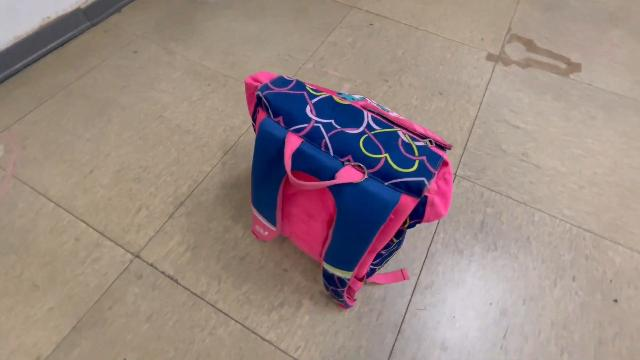Backpack: (238, 65, 458, 319)
